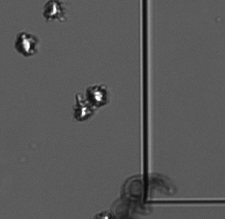Living Cell: (15, 33, 38, 56), (73, 98, 93, 121), (87, 85, 107, 106), (44, 1, 61, 18)
